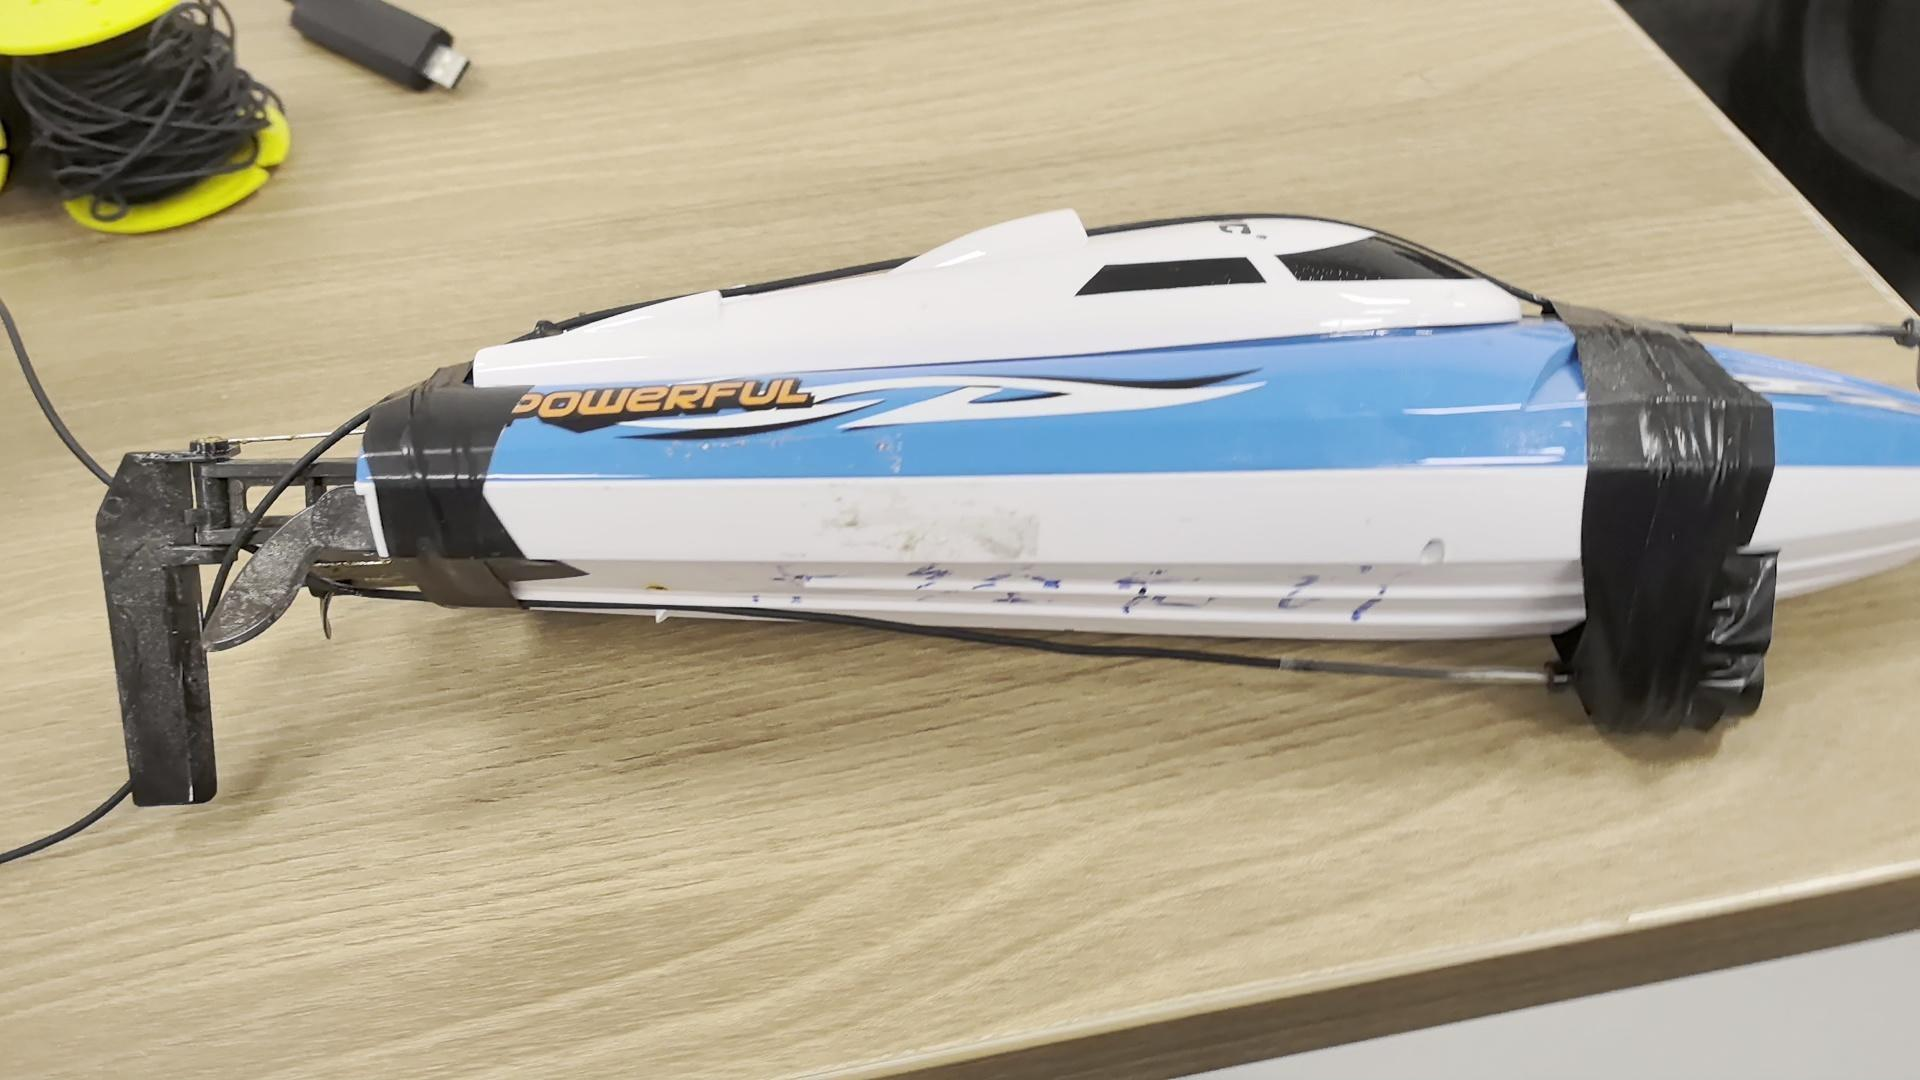Boat: (89, 200, 1911, 806)
